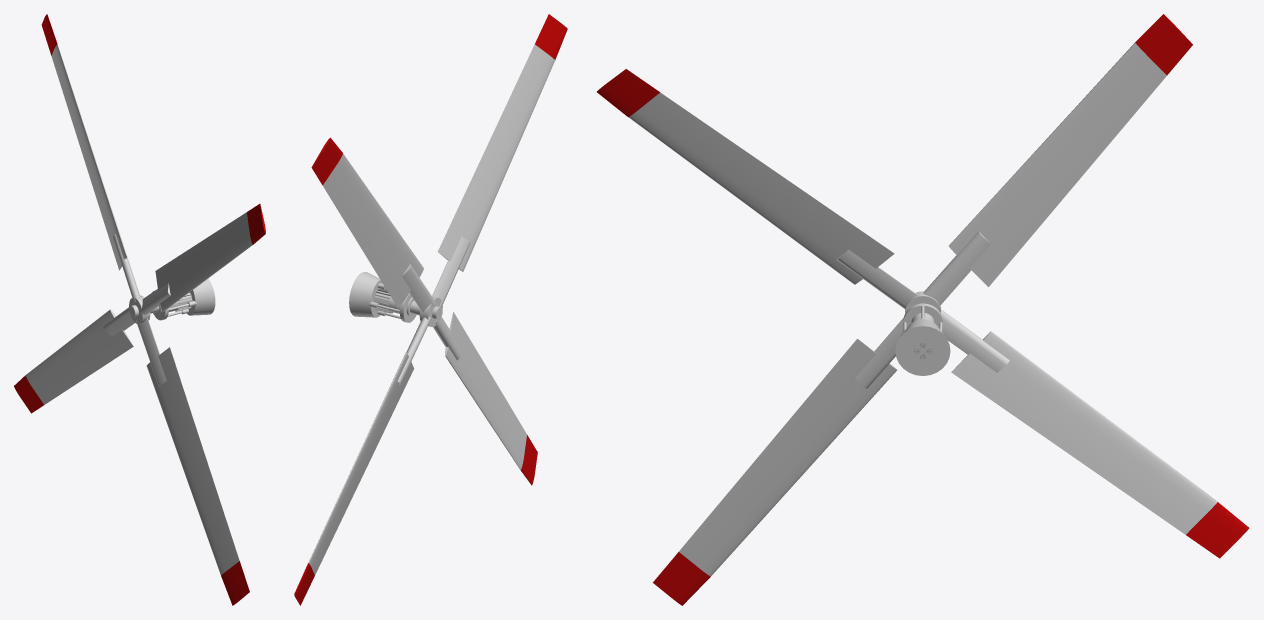
File: heliBladeVice.fbx
3 renders of one model, left to right at view 1: azimuth 30°, elevation 25°; view 2: azimuth 150°, elevation 25°; view 3: azimuth 270°, elevation 25°, orthographic. The views are drawn at different scales.
Parts seen in each view (by area): view 1: mi 223_mesh; view 2: mi 223_mesh; view 3: mi 223_mesh.
Boxes of the visible parts, <box> form: mi 223_mesh: <box>14,14,265,605</box>; mi 223_mesh: <box>294,14,567,605</box>; mi 223_mesh: <box>597,14,1249,605</box>.
Bounding box in the file's own units: 69.14 × 414 × 414.
